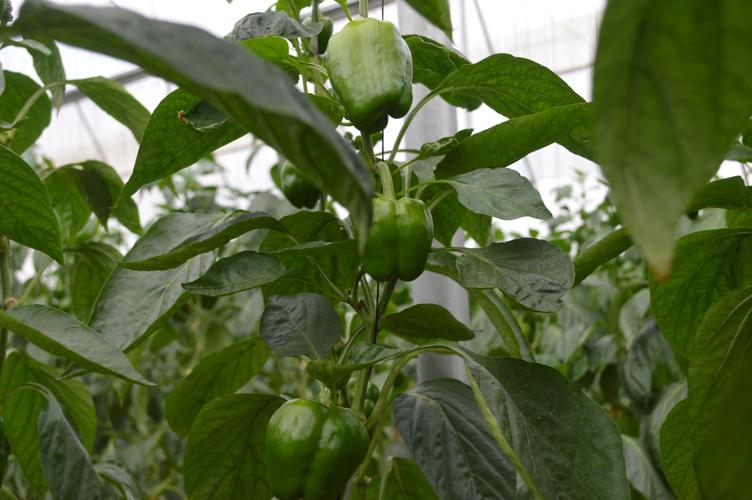BellPepper: (324, 23, 420, 135), (268, 390, 362, 500), (354, 183, 441, 285), (273, 158, 322, 218)
